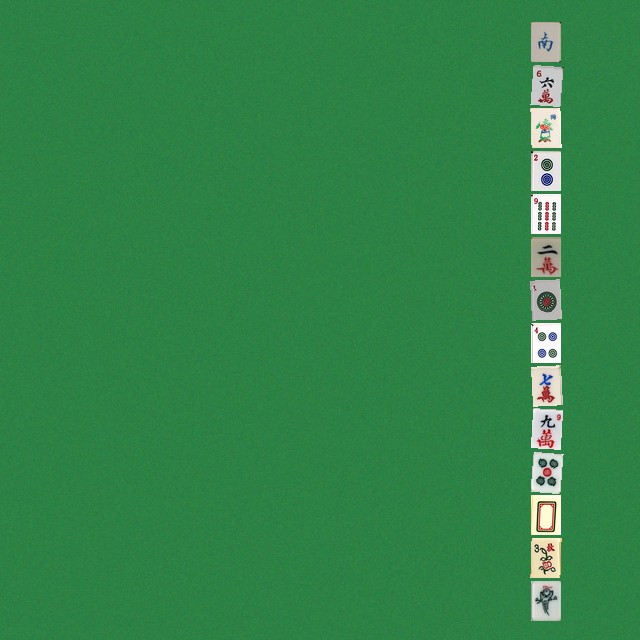tile: (530, 21, 560, 61), (530, 64, 560, 104), (530, 107, 560, 147), (530, 150, 560, 190), (530, 193, 560, 233), (530, 236, 560, 276), (530, 279, 560, 319), (530, 322, 560, 362), (530, 365, 560, 405), (530, 408, 560, 448), (530, 451, 560, 491), (530, 494, 560, 534), (530, 537, 560, 577), (530, 580, 560, 620)
